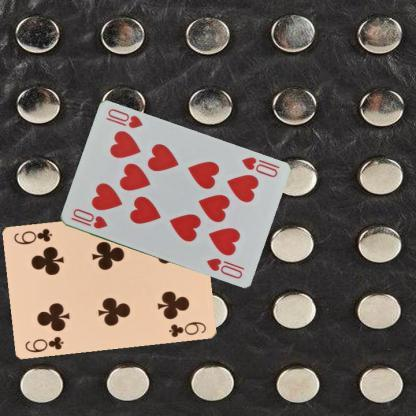10h: (238, 154, 278, 179), (68, 206, 109, 230)
6c: (23, 334, 65, 354)
